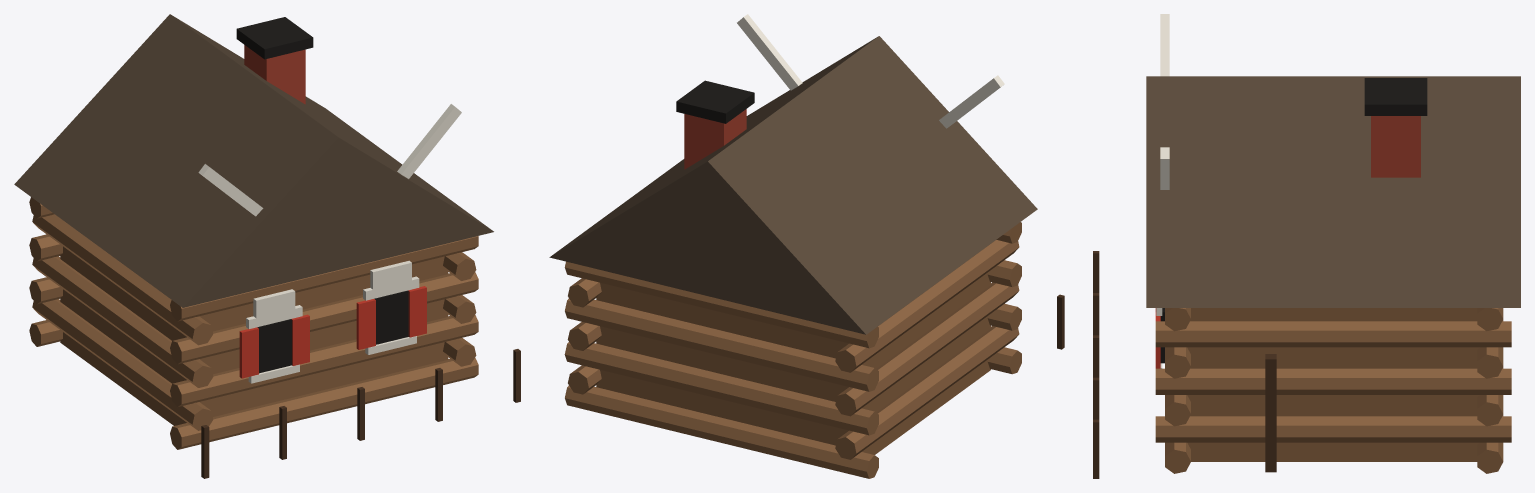
File: house.glb
3 renders of one model, left to right at view 1: azimuth 30°, elevation 25°; view 2: azimuth 150°, elevation 25°; view 3: azimuth 270°, elevation 25°, orthographic. The views are drawn at different scales.
Visible parts, largest first — view 1: House; view 2: House; view 3: House.
Part boxes in pixels (box(x1,y1,x2,y2)): House: box(14, 14, 520, 478); House: box(549, 14, 1064, 478); House: box(1093, 14, 1520, 478).
Bounding box in the file's own units: 6.5 × 5.8 × 6.85.
